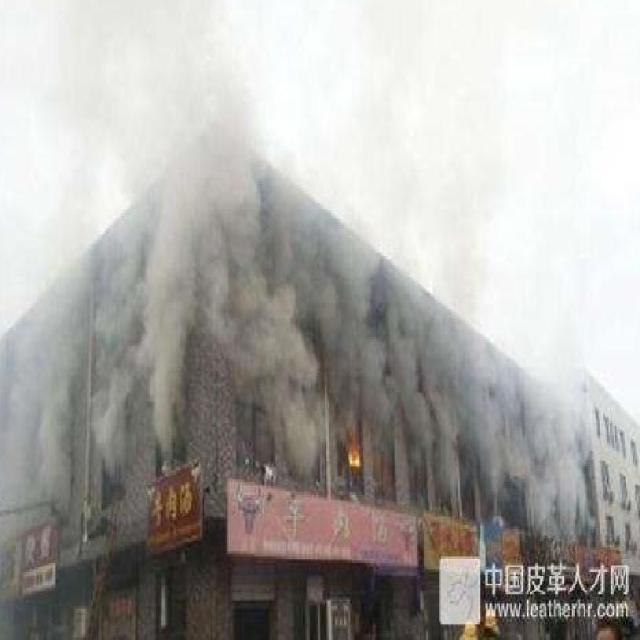Smoke: (1, 112, 596, 541)
